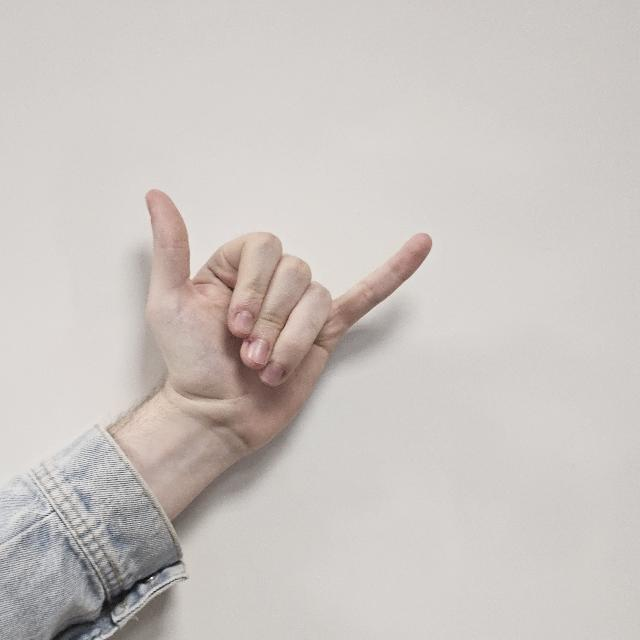Direita: (134, 160, 426, 462)
